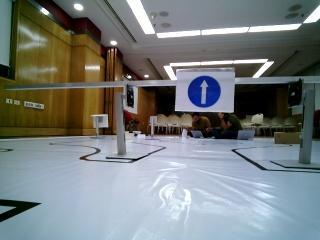straight: (180, 70, 232, 114)
